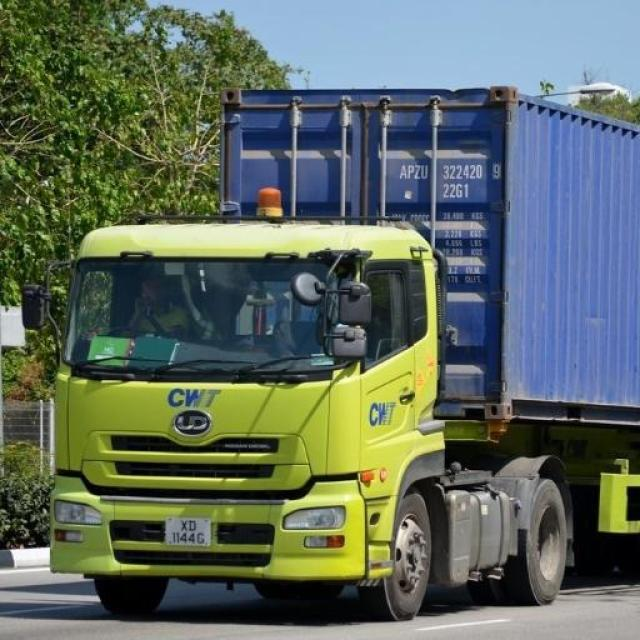ISO: (441, 184, 471, 202)
container_number: (397, 163, 498, 182)
